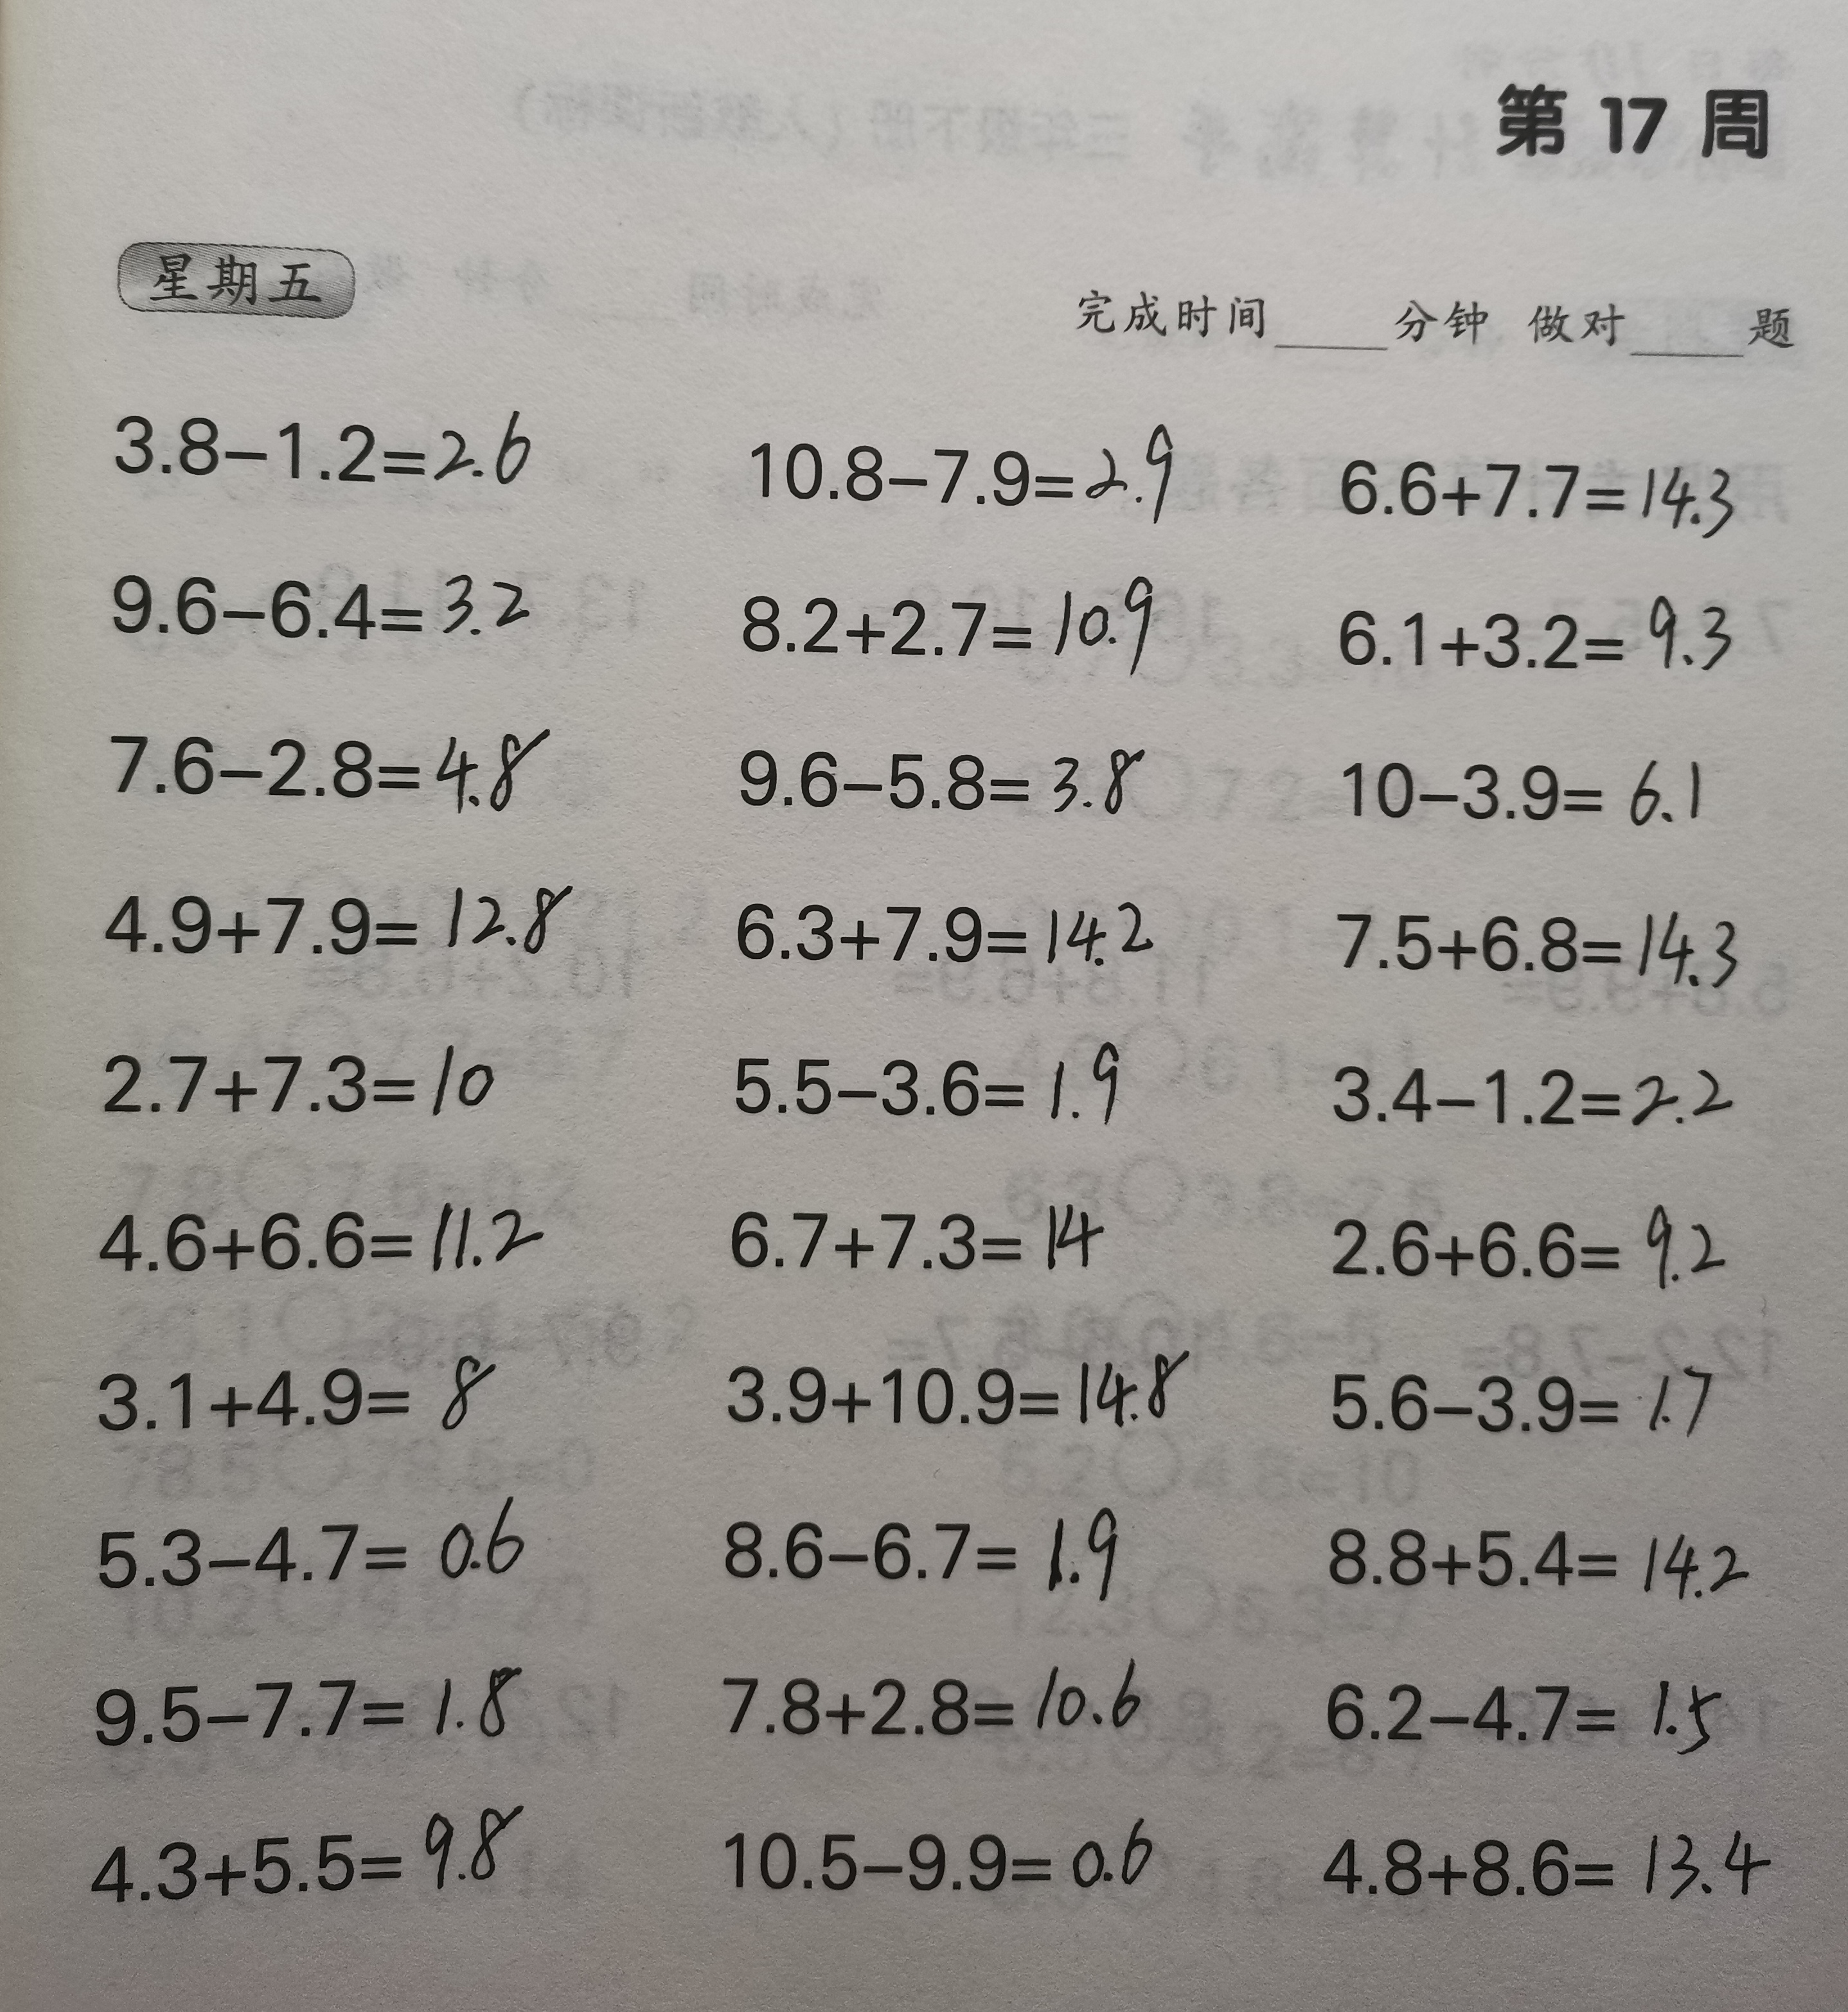equation: (58, 1781, 562, 1917), (732, 396, 1217, 529), (68, 1477, 564, 1605), (68, 1625, 547, 1756), (718, 1327, 1210, 1453), (1312, 1328, 1753, 1467), (709, 1477, 1137, 1619), (95, 363, 543, 498), (79, 701, 564, 825), (60, 1164, 566, 1283), (88, 1320, 522, 1458), (702, 1644, 1184, 1768), (88, 855, 589, 974), (1308, 1486, 1773, 1614), (1298, 1798, 1792, 1917), (699, 1786, 1193, 1903), (725, 554, 1177, 680), (723, 866, 1175, 992), (1319, 419, 1764, 547), (88, 1010, 540, 1134), (1315, 1176, 1771, 1299), (723, 1160, 1137, 1293), (727, 719, 1167, 841), (723, 1008, 1153, 1132), (1301, 1654, 1764, 1768), (1319, 880, 1755, 999), (96, 536, 538, 654), (1324, 578, 1767, 694), (1312, 1032, 1759, 1144), (1319, 726, 1734, 832)
